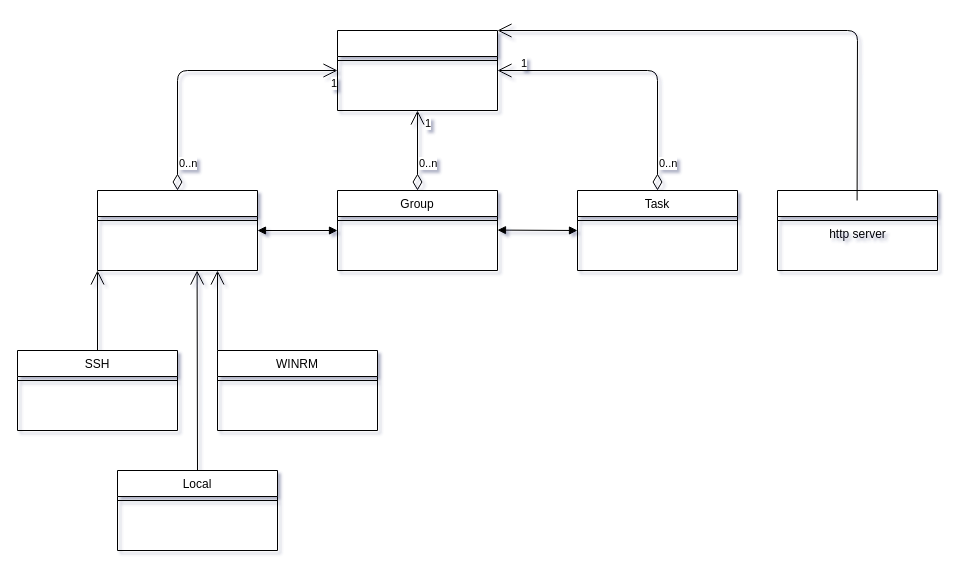
This 961x574 diagram has some shape labels left out. The box of each missing label's shape, as (x1, y1, x2, y2) in pixels:
GlobalState: (336, 30, 498, 110)
Host: (96, 190, 258, 270)
Utility: (776, 190, 938, 270)
